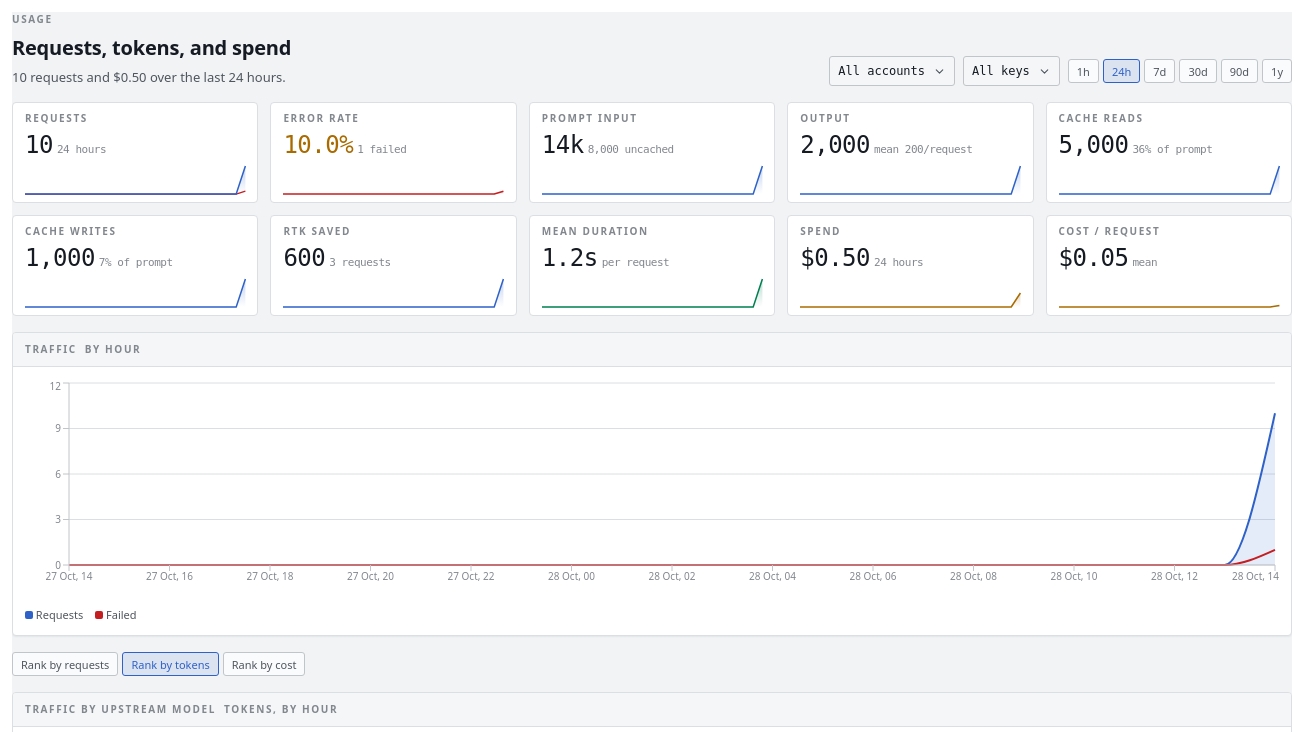
Test: UsageBoard › a long range switches every panel to the daily rollup
The image size is (1304, 732).
expect the text "10 requests and $0.50 over the last 24 hours." is shown: met, box left=12, top=68, right=291, bottom=86
Click the button "1y". click: (1277, 71)
box: left=1262, top=59, right=1292, bottom=83
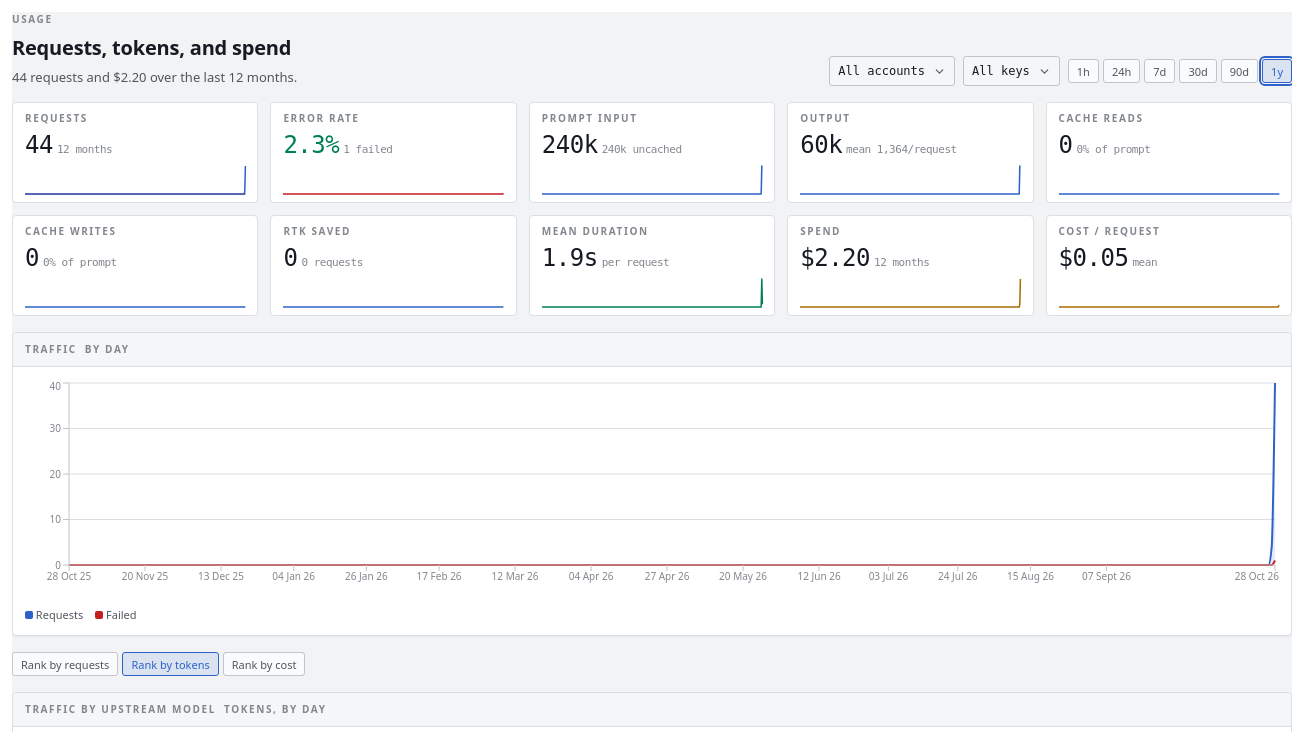
expect the text "44 requests and $2.20 over the last 12 months." is shown: met, box left=12, top=68, right=297, bottom=86
